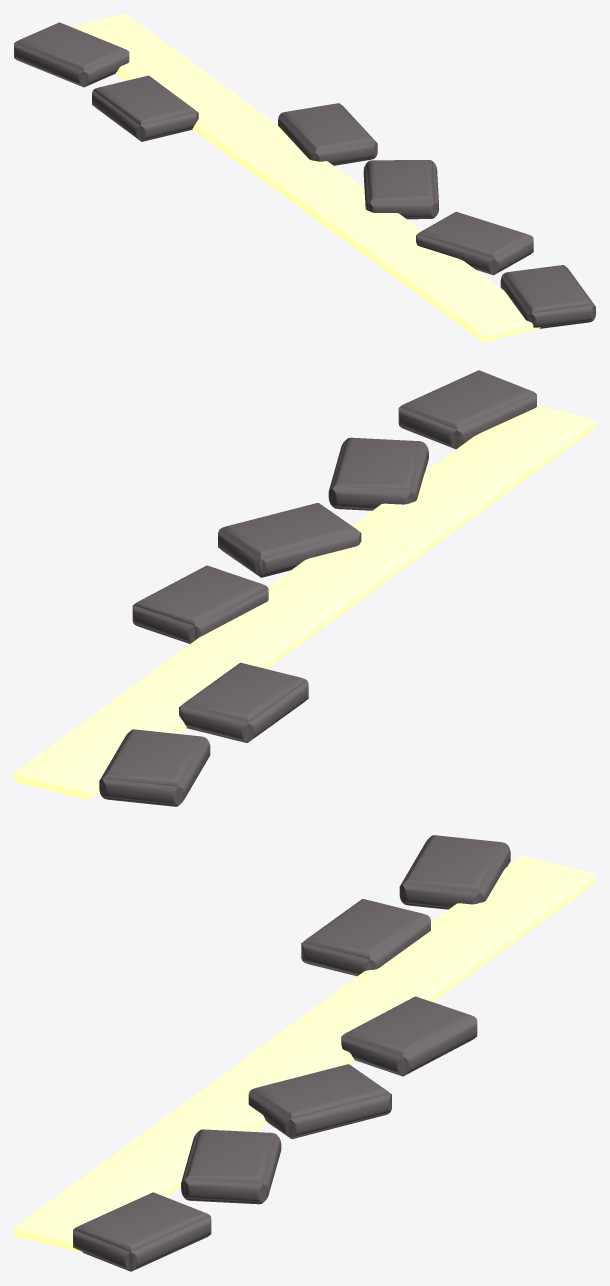
Rendered from ENV_Ember_LavaFissure_S.fbx.
The picture shows the model from 3 angles, top to bottom: view 1: azimuth 30°, elevation 25°; view 2: azimuth 150°, elevation 25°; view 3: azimuth 330°, elevation 25°; orthographic projection. The views are drawn at different scales.
Parts seen in each view (by area): view 1: ENV_Ember_LavaFissure_S; view 2: ENV_Ember_LavaFissure_S; view 3: ENV_Ember_LavaFissure_S.
Part boxes in pixels (box(x1,y1,x2,y2)): ENV_Ember_LavaFissure_S: box(14, 14, 595, 341); ENV_Ember_LavaFissure_S: box(14, 370, 595, 806); ENV_Ember_LavaFissure_S: box(14, 835, 595, 1271).
Bounding box in the file's own units: 1.08 × 0.12 × 4.07.
